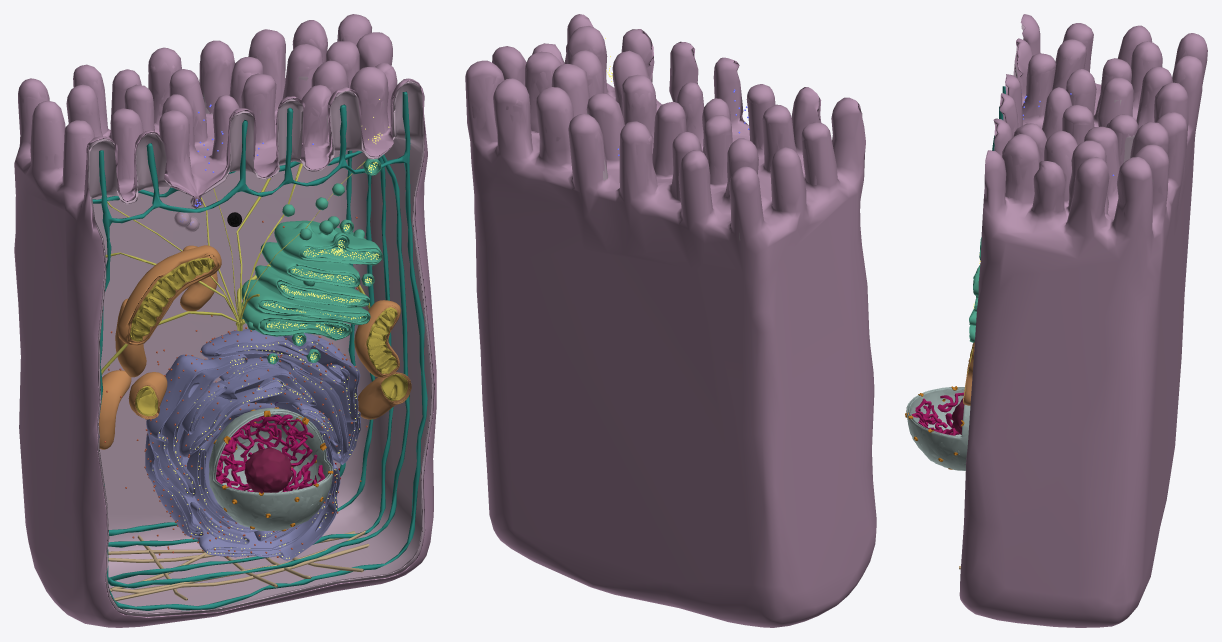
File: eukaryotic_cell.gltf
3 views of the same model, side by side, from view 1: azimuth 30°, elevation 25°; view 2: azimuth 150°, elevation 25°; view 3: azimuth 270°, elevation 25° (orthographic). The views are drawn at different scales.
Visible parts, largest first — view 1: Cell_membrane2, Rer, Microfilaments2, Golgi, Mitochondria_external_membranes_Mitochondria_external_membra, Nucleus_membrane, Mitochondria_inside, Heterochromatin, Microfilaments, Centrioles, Proteins, Nucleolus (+1 smaller); view 2: Cell_membrane2; view 3: Cell_membrane2, Nucleus_membrane, Heterochromatin, Golgi.
Boxes of the visible parts, x1,y1,x2,y2 form: Cell_membrane2: (14,14,436,627); Rer: (145,329,360,560); Microfilaments2: (92,91,427,610); Golgi: (241,158,382,364); Mitochondria_external_membranes_Mitochondria_external_membra: (99,245,411,449); Nucleus_membrane: (209,408,333,530); Mitochondria_inside: (129,257,407,416); Heterochromatin: (216,414,325,491); Microfilaments: (108,530,369,600); Centrioles: (101,161,370,374); Proteins: (152,99,389,558); Nucleolus: (244,447,292,493); Cell_membrane2: (465,14,876,627); Cell_membrane2: (959,14,1207,627); Nucleus_membrane: (906,387,970,470); Heterochromatin: (911,392,963,435); Golgi: (969,237,981,342).
Bounding box in the file's own units: 6.51 × 9.06 × 5.11.
